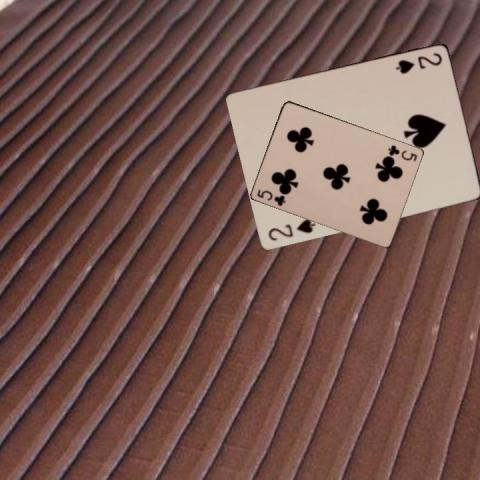2s: (265, 215, 317, 242), (393, 50, 444, 76)
5c: (385, 142, 419, 163), (254, 186, 287, 207)
